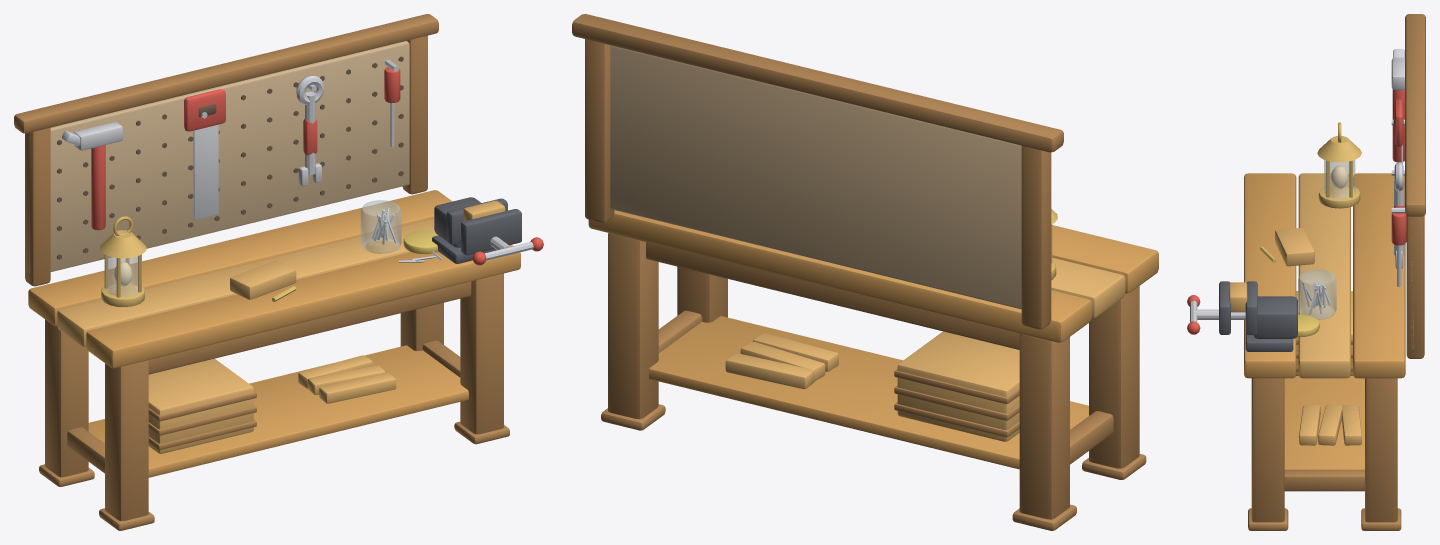
Rendered from cozy-workbench.glb.
3 views of the same model, side by side, from view 1: azimuth 30°, elevation 25°; view 2: azimuth 150°, elevation 25°; view 3: azimuth 270°, elevation 25° (orthographic). The views are drawn at different scales.
Parts seen in each view (by area): view 1: Pegboard, Legs, Top_plank_0, Shelf, Top_plank_2, Peg_trim_top, Top_plank_1, Crate, Apron_front, Peg_post, Offcuts, Peg_post.001 (+19 smaller); view 2: Pegboard, Legs, Shelf, Peg_trim_top, Top_plank_2, Crate, Apron_back, Peg_post, Peg_post.001, Offcuts, Top_plank_0, Crate_slats (+4 smaller); view 3: Legs, Top_plank_2, Top_plank_1, Top_plank_0, Shelf, Peg_trim_top, Peg_post.001, Offcuts, Stretcher_side.001, Jar, Vise_body, Wood_block (+16 smaller).
Boxes of the visible parts, <box> form: Pegboard: <box>29,41,409,273</box>; Legs: <box>45,273,503,520</box>; Top_plank_0: <box>86,244,520,368</box>; Shelf: <box>88,345,468,477</box>; Top_plank_2: <box>28,190,452,325</box>; Peg_trim_top: <box>14,14,438,133</box>; Top_plank_1: <box>57,218,434,346</box>; Crate: <box>148,358,253,453</box>; Apron_front: <box>148,281,471,374</box>; Peg_post: <box>25,127,50,286</box>; Offcuts: <box>298,355,396,403</box>; Peg_post.001: <box>402,35,427,194</box>; Pegboard: <box>610,45,1021,309</box>; Legs: <box>608,233,1139,519</box>; Shelf: <box>649,316,1088,469</box>; Peg_trim_top: <box>572,14,1063,152</box>; Top_plank_2: <box>588,210,1091,342</box>; Crate: <box>897,331,1019,441</box>; Apron_back: <box>646,242,1019,349</box>; Peg_post: <box>1021,145,1051,329</box>; Peg_post.001: <box>585,39,614,222</box>; Offcuts: <box>725,333,838,389</box>; Top_plank_0: <box>1052,225,1158,293</box>; Crate_slats: <box>894,369,1019,437</box>; Legs: <box>1251,378,1397,522</box>; Top_plank_2: <box>1353,173,1405,378</box>; Top_plank_1: <box>1298,173,1350,378</box>; Top_plank_0: <box>1244,173,1296,378</box>; Shelf: <box>1284,376,1364,469</box>; Peg_trim_top: <box>1405,14,1425,216</box>; Peg_post.001: <box>1406,216,1424,358</box>; Offcuts: <box>1299,404,1361,445</box>; Stretcher_side.001: <box>1284,469,1364,491</box>; Jar: <box>1298,269,1336,319</box>; Vise_body: <box>1253,296,1297,338</box>; Wood_block: <box>1275,228,1314,266</box>.
Bounding box in the file's own units: 3.05 × 2.47 × 1.6.
